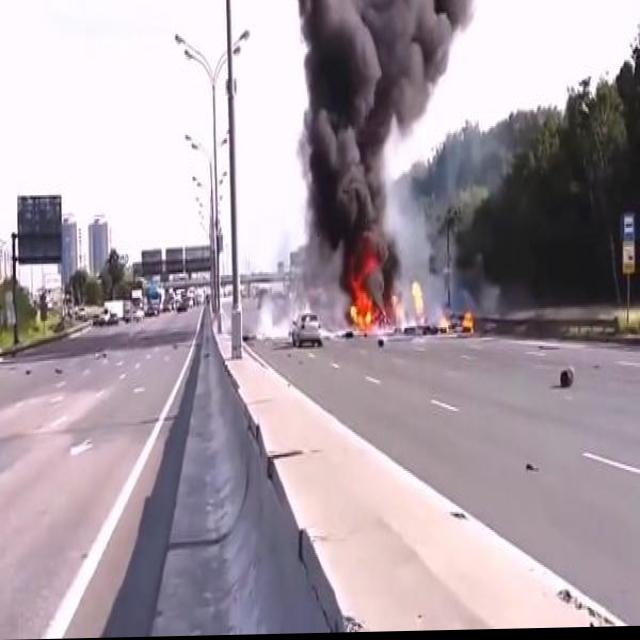fire: (341, 246, 402, 339), (408, 276, 428, 328), (460, 310, 477, 336), (438, 309, 452, 339)
